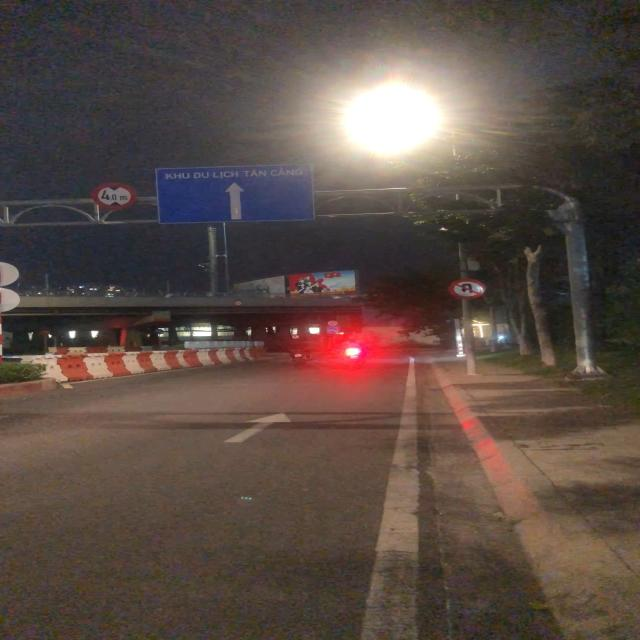Bien bao cam quay dau xe: (448, 276, 487, 300)
Bien bao han che chieu cao: (90, 181, 141, 211)
